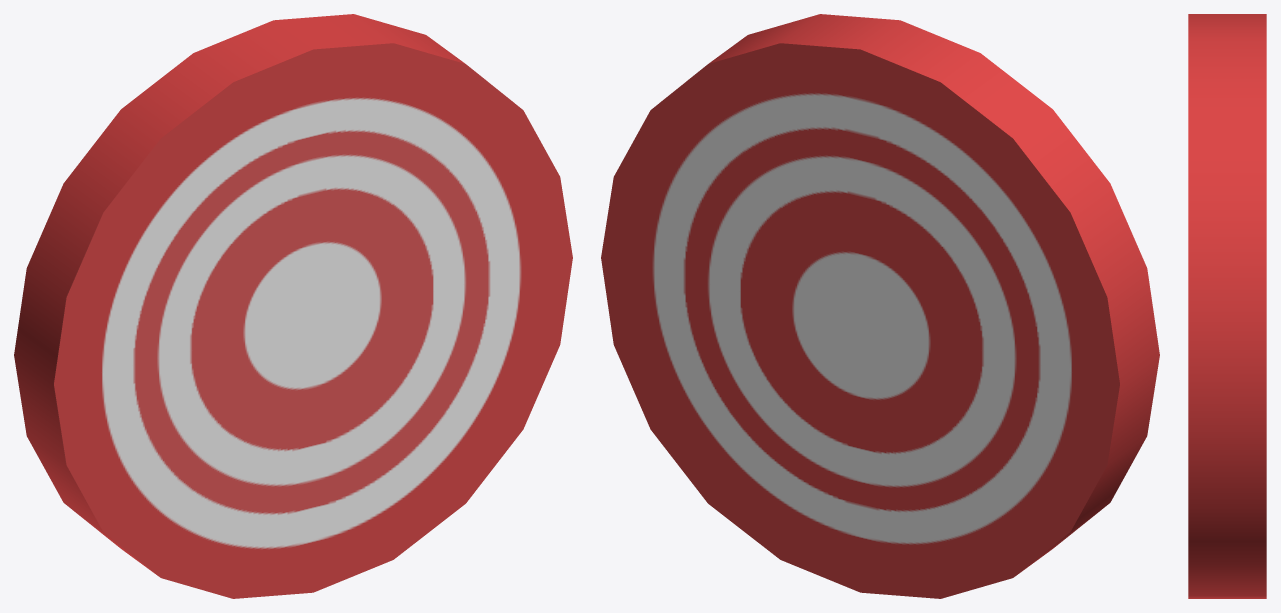
File: Enemy_Target.fbx
The picture shows the model from 3 angles, left to right: view 1: azimuth 30°, elevation 25°; view 2: azimuth 150°, elevation 25°; view 3: azimuth 270°, elevation 25°; orthographic projection.
Parts seen in each view (by area): view 1: pCylinder1; view 2: pCylinder1; view 3: pCylinder1.
Part boxes in pixels (left/top/right/bottom): pCylinder1: left=14, top=14, right=572, bottom=598; pCylinder1: left=601, top=14, right=1159, bottom=598; pCylinder1: left=1188, top=14, right=1266, bottom=598.
Size of the model in its own units: 2 by 2 by 0.266.
1 material, 1 textured.
